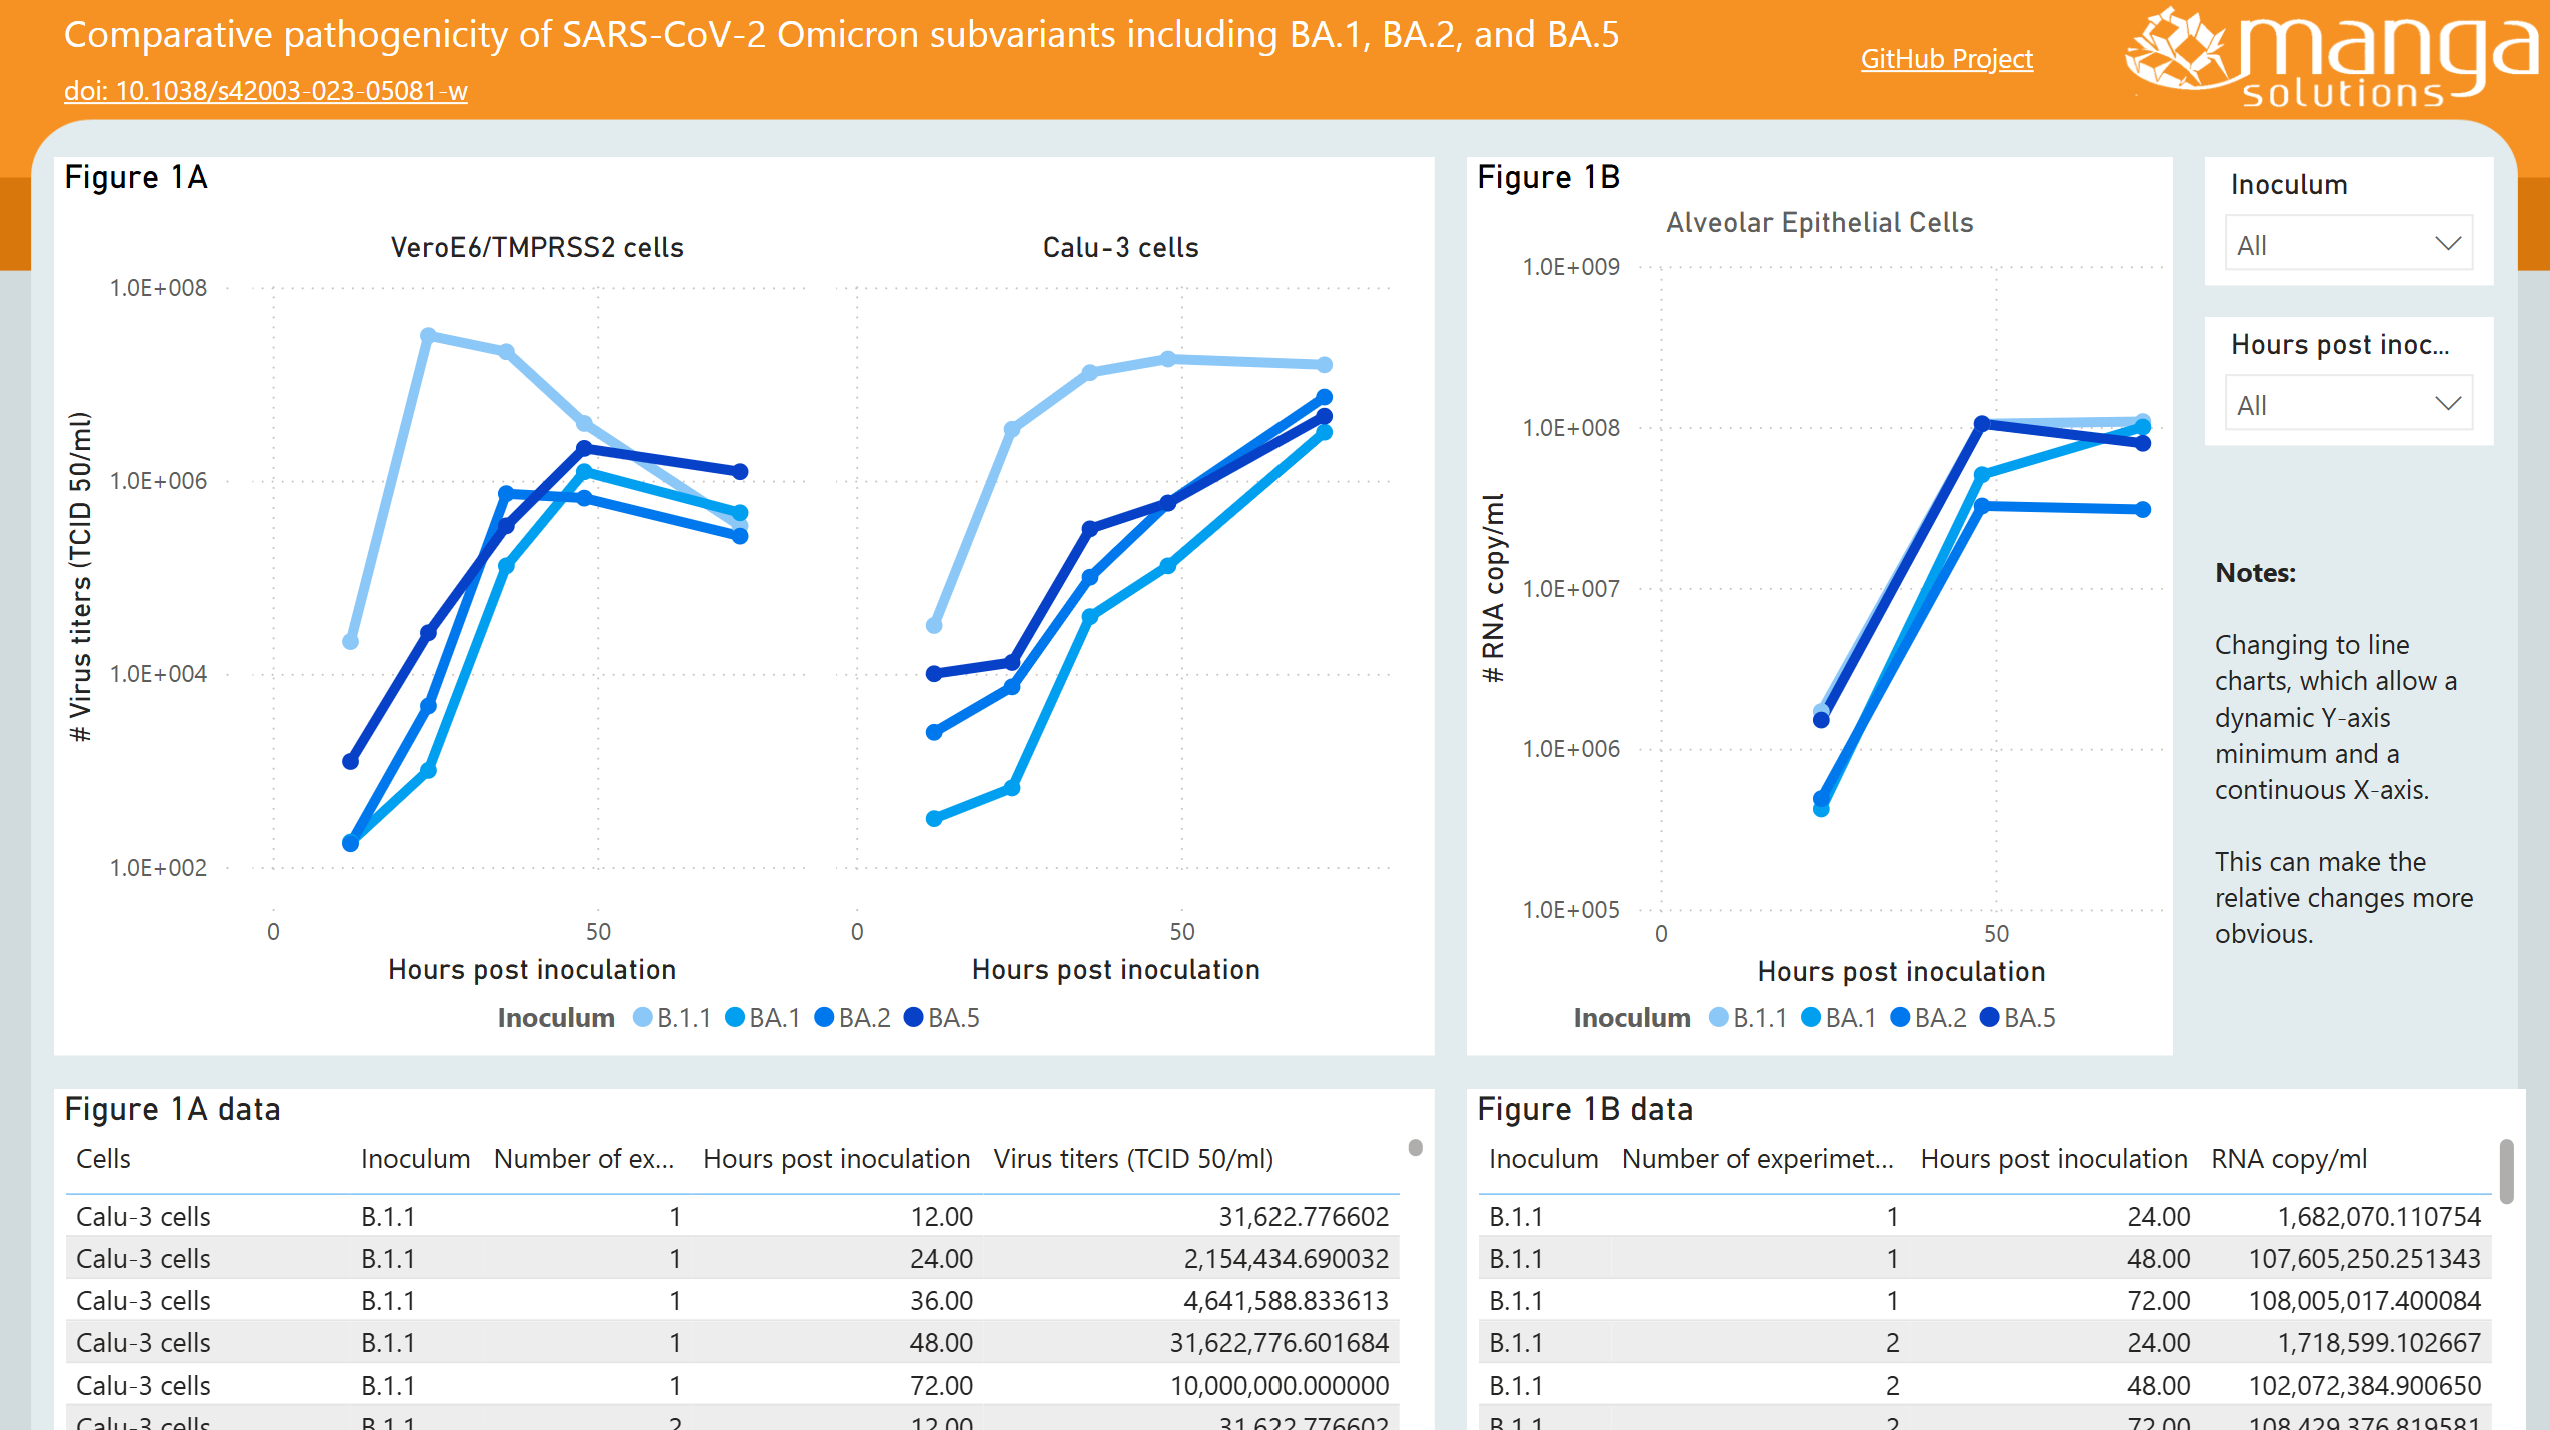

The dashboard page shown, as its layout file describes it:
{"tool":"powerbi","page":{"name":"Line Charts","canvas":[1280,720],"ordinal":2},"visuals":[{"type":"slicer","fields":{"Values":["Inoculums.Inoculum"]},"box":[1104,80,144,64],"z":0},{"type":"tableEx","title":"Figure 1A data","fields":{"Values":["Figure 1A.Cells","Figure 1A.Inoculum","Figure 1A.Number of experimetal data","Figure 1A.Hours post inoculation","Figure 1A.# Virus titers (TCID 50/ml) - 6 dec"]},"box":[32,544,688,176],"z":1000},{"type":"lineChart","title":"Figure 1A","fields":{"Category":["Hours.Hours post inoculation"],"Series":["Inoculums.Inoculum"],"Y":["Figure 1A.# Virus titers (TCID 50/ml)"],"Rows":["Figure 1A.Cells"]},"box":[32,80,688,448],"z":2000},{"type":"textbox","box":[32,0,864,48],"z":3000},{"type":"actionButton","box":[1056,0,224,64],"z":4000},{"type":"textbox","box":[32,32,304,32],"z":6000},{"type":"lineChart","title":"Figure 1B","fields":{"Category":["Hours.Hours post inoculation"],"Series":["Inoculums.Inoculum"],"Y":["Figure 1B.# RNA copy/ml"]},"box":[736,80,352,448],"z":7000},{"type":"tableEx","title":"Figure 1B data","fields":{"Values":["Figure 1B.Inoculum","Figure 1B.Number of experimetal data","Figure 1B.Hours post inoculation","Figure 1B.# RNA copy/ml - 6 dec"]},"box":[736,544,528,176],"z":8000},{"type":"slicer","fields":{"Values":["Hours.Hours post inoculation"]},"box":[1104,160,144,64],"z":9000},{"type":"textbox","box":[1104,272,144,256],"z":9001},{"type":"textbox","box":[896,16,128,32],"z":9002}]}

Visuals, with their boxes in screenshot pixels (x1, y1, x2, y2), scaled from the page's 1280x720 canvas onto the 2550x1430 screenshot:
slicer - Inoculums.Inoculum: bbox=[2199, 159, 2486, 286]
"Figure 1A data" tableEx: bbox=[64, 1080, 1434, 1429]
"Figure 1A" lineChart: bbox=[64, 159, 1434, 1049]
textbox: bbox=[64, 0, 1785, 95]
actionButton: bbox=[2104, 0, 2549, 127]
textbox: bbox=[64, 64, 669, 127]
"Figure 1B" lineChart: bbox=[1466, 159, 2168, 1049]
"Figure 1B data" tableEx: bbox=[1466, 1080, 2518, 1429]
slicer - Hours.Hours post inoculation: bbox=[2199, 318, 2486, 445]
textbox: bbox=[2199, 540, 2486, 1049]
textbox: bbox=[1785, 32, 2040, 95]
